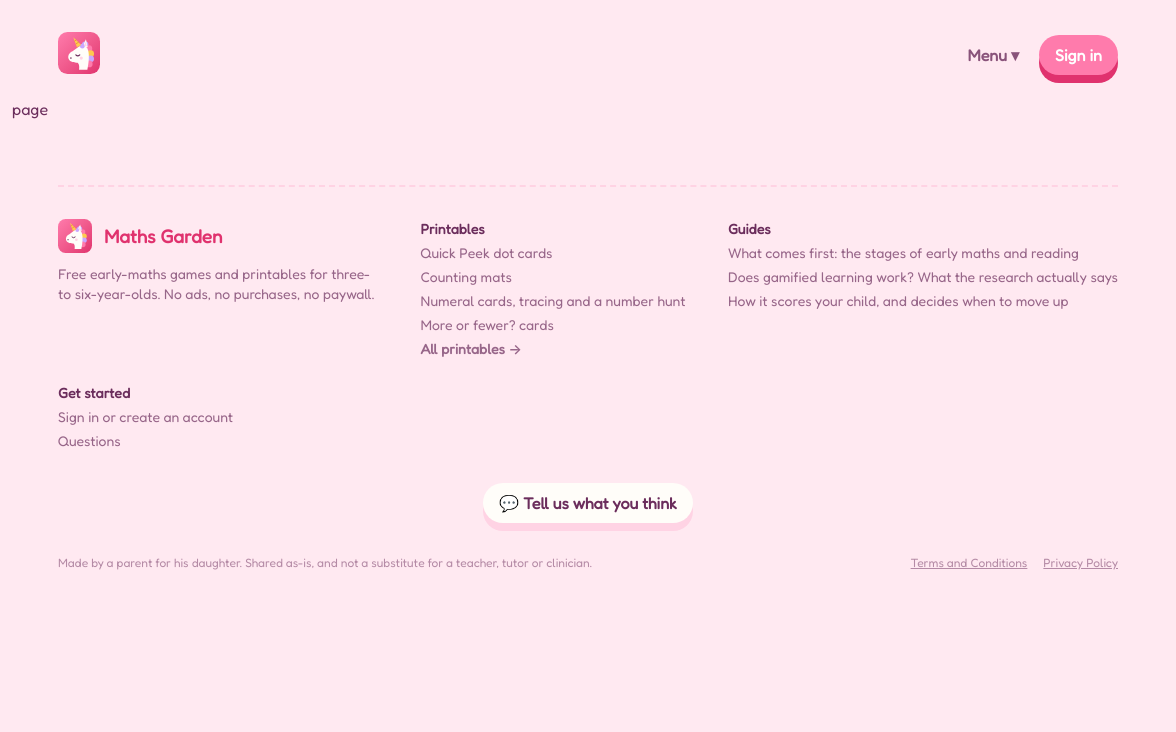
Test case: the marketing header › at 390px folds the links and the language picker into one Menu, with Sign in beside it
expect the link "free printables" is not shown: met
expect the link "how it works" is not shown: met
Click the button "Menu ▾" at x=993, y=54, box x1=956 y1=34 x2=1031 y2=74
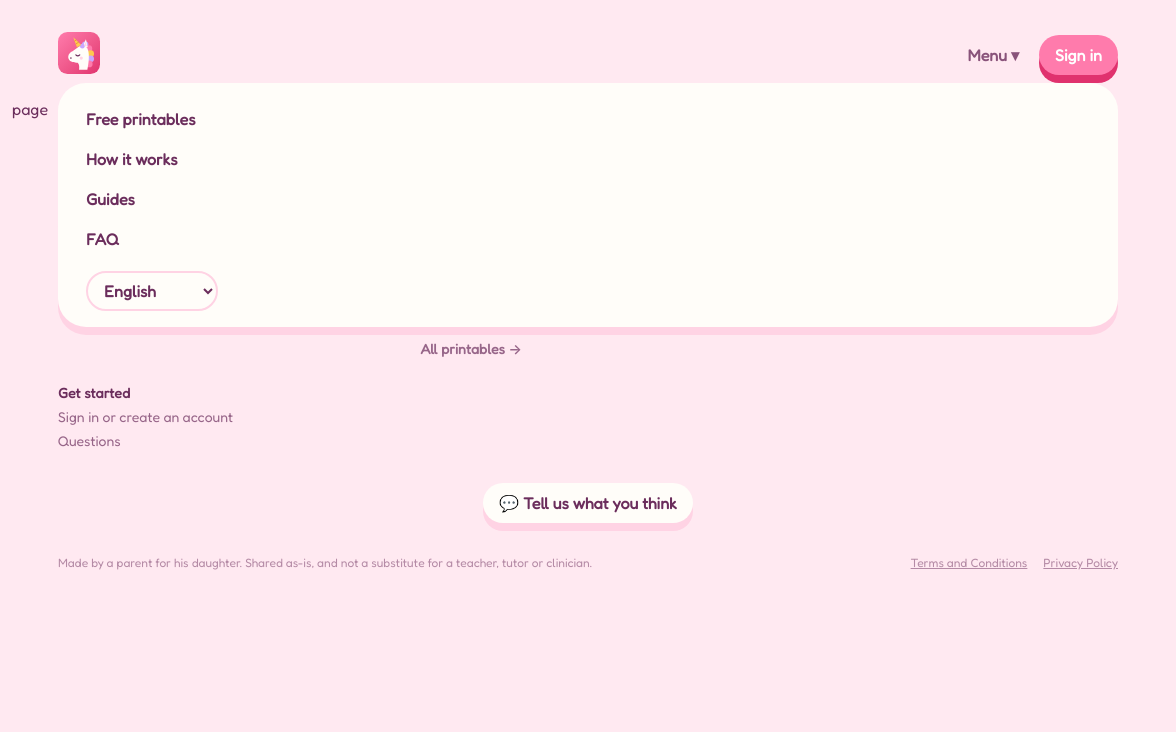
expect the button "How it works" is shown: met, box x1=74 y1=138 x2=1102 y2=178
expect the button "FAQ" is shown: met, box x1=74 y1=218 x2=1102 y2=258
expect the dropdown named "choose a language" is shown: met, box x1=86 y1=270 x2=218 y2=310
